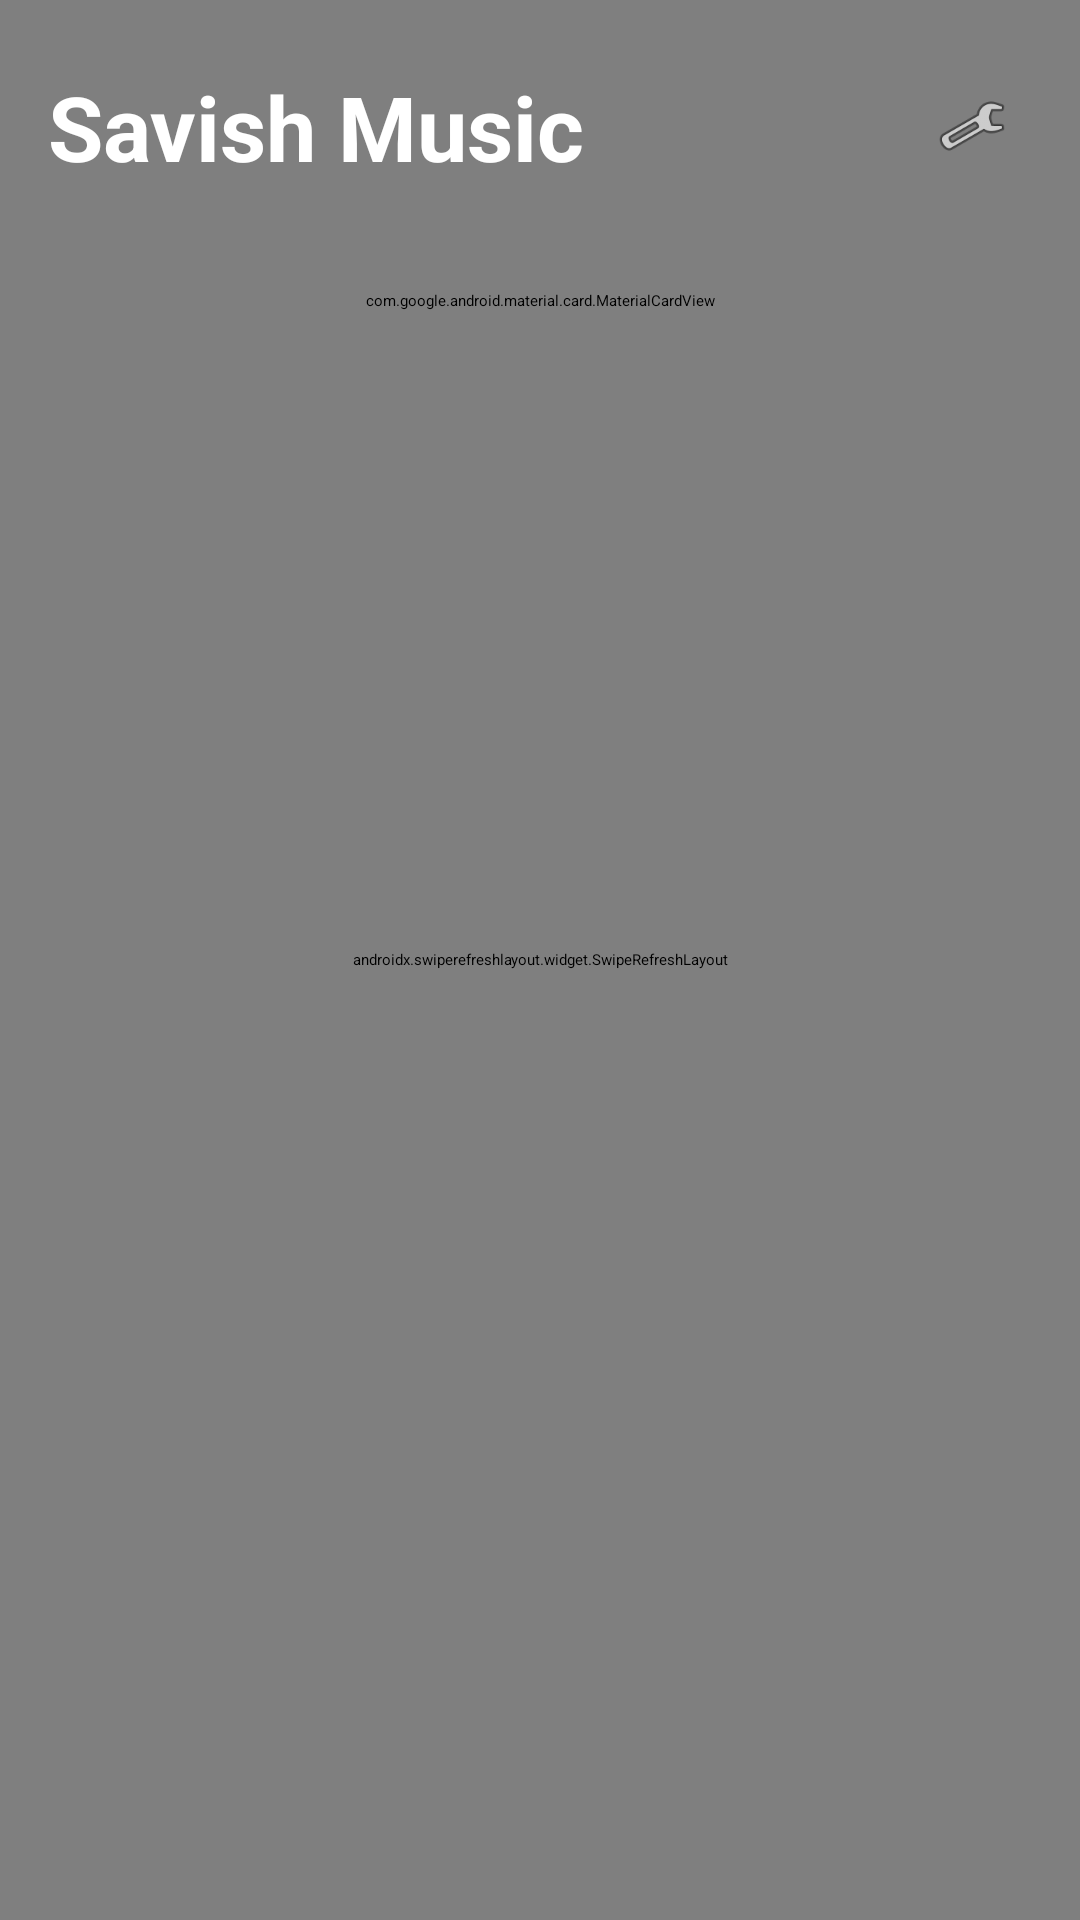

Named icons in this screenshot (1080*1920) and their centers, (x,y):
manage: (972,126)
